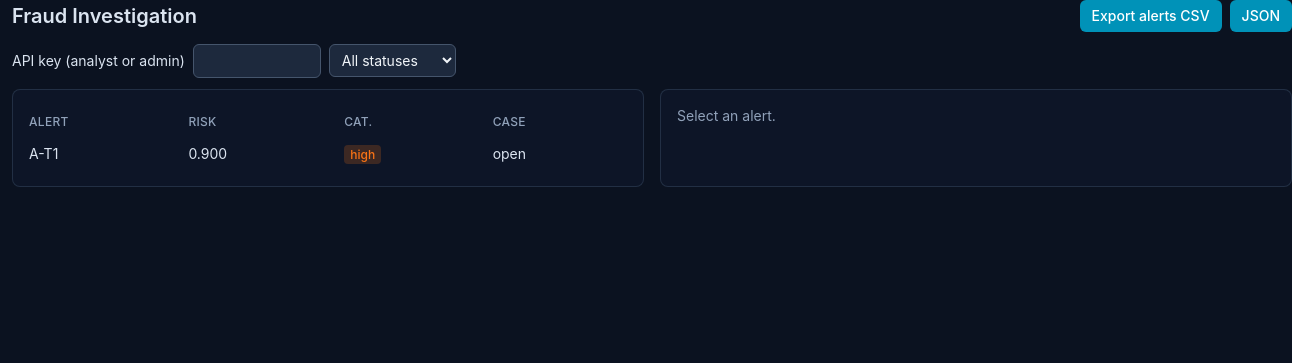
Scenario: Investigations › persists a status change with a note
Step 1. Click the text "A-T1" → {"x": 44, "y": 154}, box [29, 138, 188, 170]
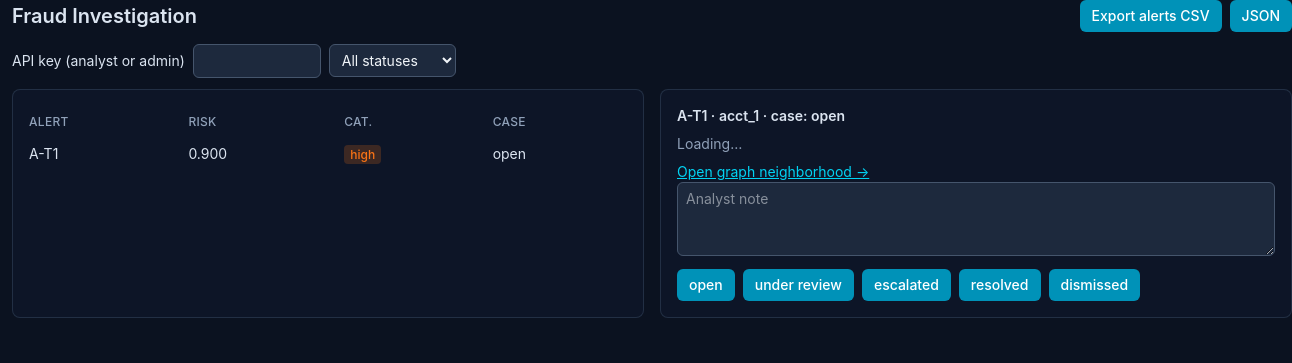
Step 2. Type "checked ring" into the text box labelled "Analyst note" → {"x": 976, "y": 219}, box [677, 182, 1275, 256]
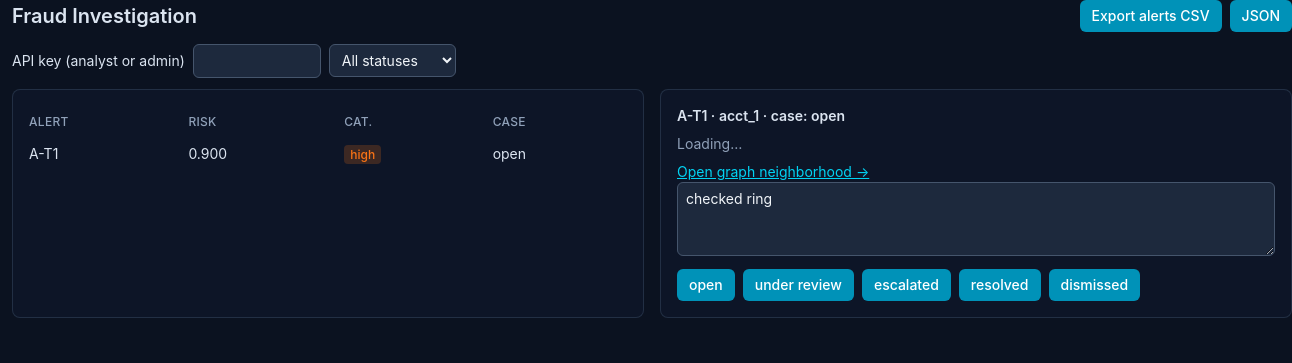
Step 3. Click the button "escalated" → {"x": 906, "y": 285}, box [862, 269, 951, 301]
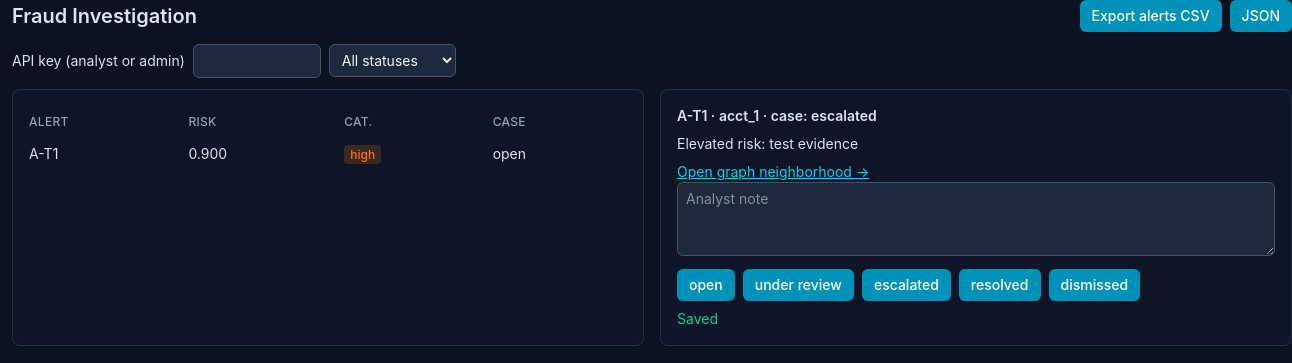
Result: the text "Saved" is shown at [677, 310, 718, 327]
